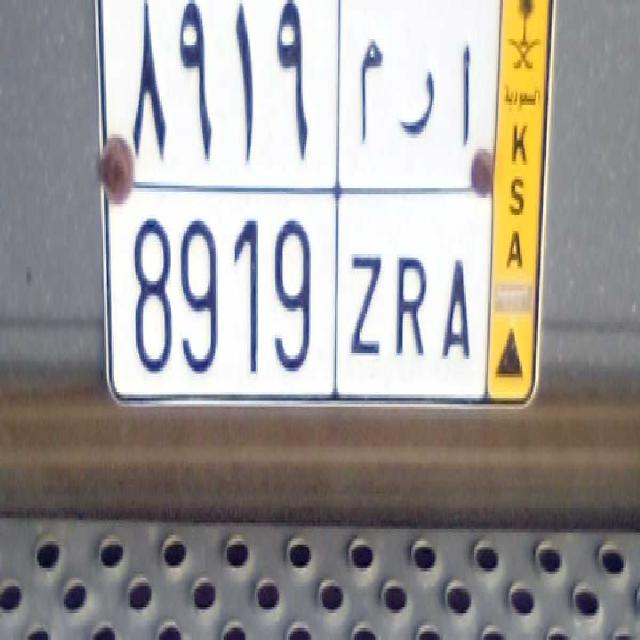license_plate: (120, 185, 488, 409)
